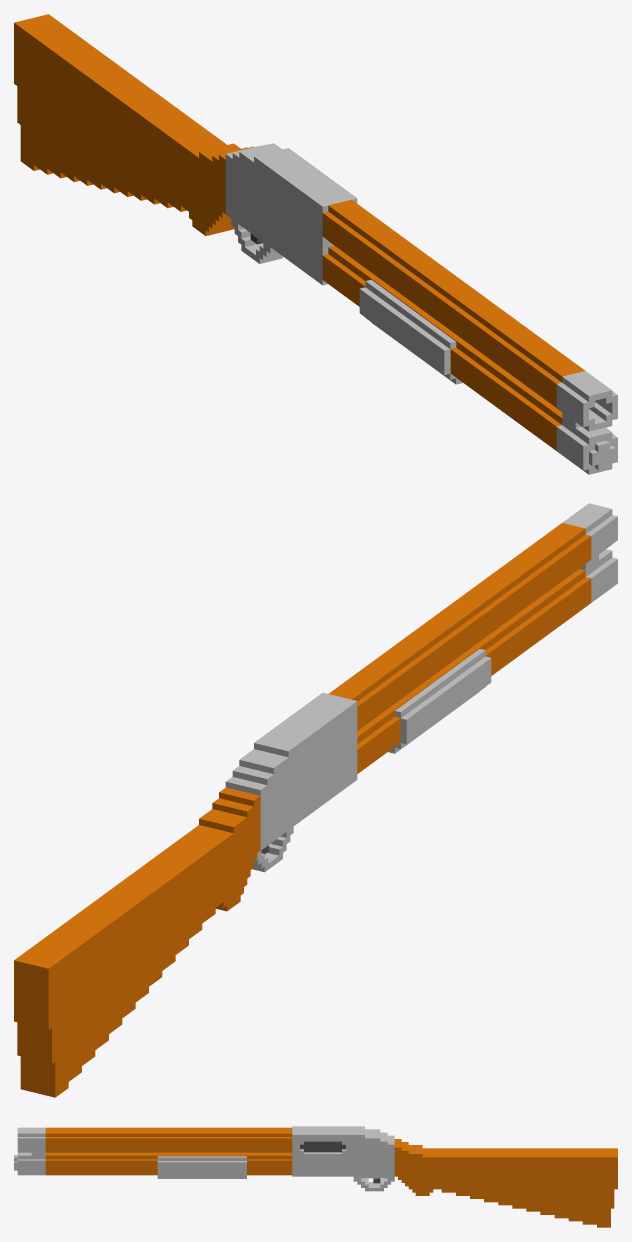
The model's file is PixelShotgun.fbx.
The picture shows the model from 3 angles, top to bottom: view 1: azimuth 30°, elevation 25°; view 2: azimuth 150°, elevation 25°; view 3: azimuth 270°, elevation 25°; orthographic projection. The views are drawn at different scales.
Parts seen in each view (by area): view 1: Shotgun_Body, Pump_Grip; view 2: Shotgun_Body, Pump_Grip; view 3: Shotgun_Body, Pump_Grip.
Boxes of the visible parts, x1,y1,x2,y2 form: Shotgun_Body: [14, 14, 617, 474]; Pump_Grip: [359, 279, 462, 384]; Shotgun_Body: [14, 503, 617, 1097]; Pump_Grip: [388, 649, 491, 753]; Shotgun_Body: [14, 1126, 617, 1227]; Pump_Grip: [157, 1156, 246, 1178].
Bounding box in the file's own units: 8.11 × 29 × 171.
